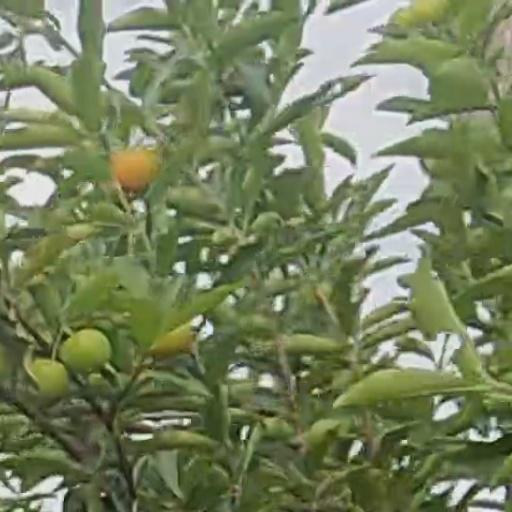acerola: (63, 334, 111, 375), (31, 360, 69, 401), (115, 150, 151, 191)
